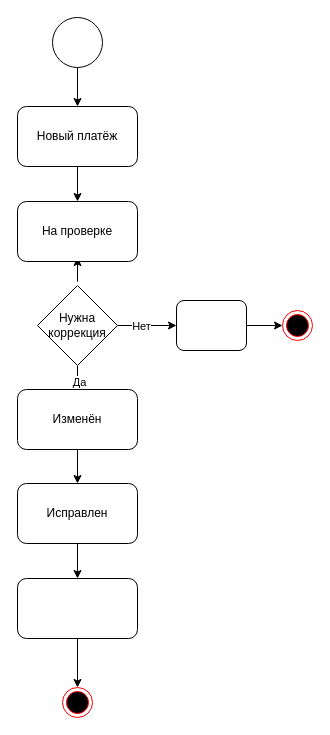
The diagram is 330 pixels wide and 735 high, and some of its shapes have lost their labels. Here are the shapes that lost their labels. From the top down, the centre of each, then its label:
(211,325): Ок
(77,608): отправлен
